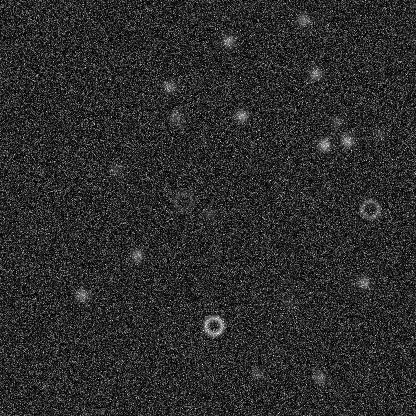Ring: (358, 197, 382, 221), (171, 188, 195, 212), (201, 313, 225, 337)
Spot: (220, 33, 236, 49), (233, 107, 249, 123), (202, 205, 218, 221), (316, 136, 332, 152), (371, 125, 387, 141), (355, 274, 371, 290), (308, 65, 324, 81), (328, 113, 344, 129), (167, 109, 183, 125), (107, 161, 123, 177), (281, 294, 297, 310), (248, 365, 264, 381), (311, 369, 327, 385), (339, 132, 355, 148), (294, 11, 310, 27), (161, 78, 177, 94), (128, 246, 144, 262), (73, 286, 89, 302)
